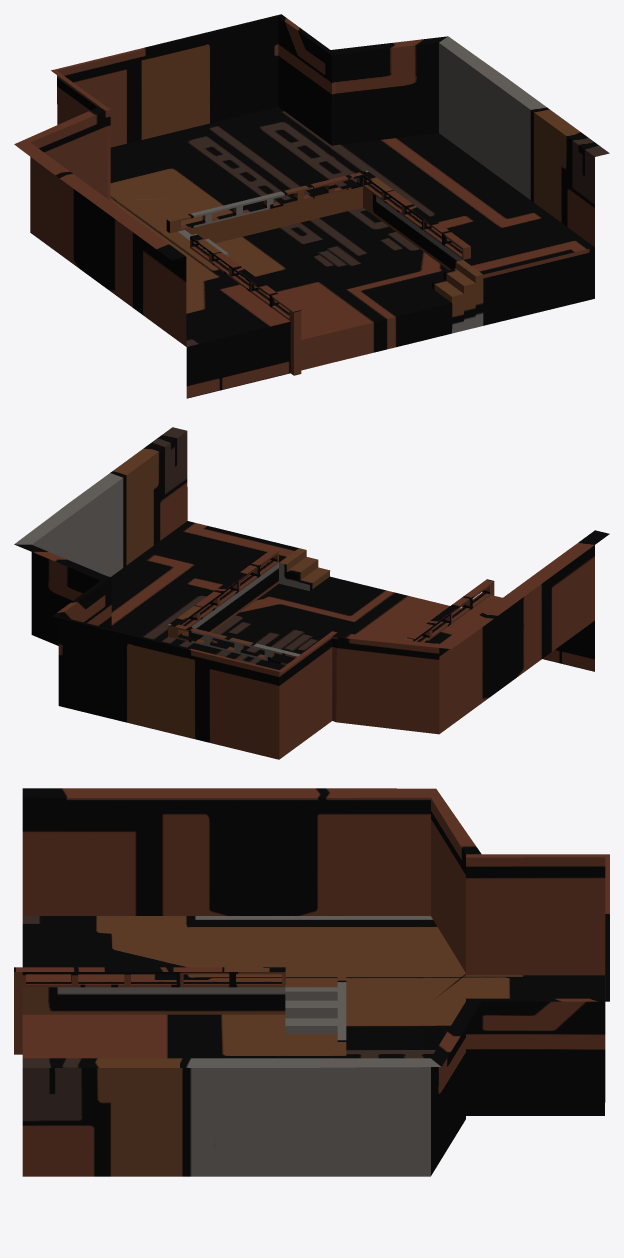
Rendered from Enviorment_Unwapped_UVs_2.fbx.
3 views of the same model, one above another, from view 1: azimuth 30°, elevation 25°; view 2: azimuth 150°, elevation 25°; view 3: azimuth 270°, elevation 25° (orthographic). The views are drawn at different scales.
Visible parts, largest first — view 1: Enivorment; view 2: Enivorment; view 3: Enivorment.
Boxes of the visible parts, bbox=[...] form: Enivorment: bbox=[14, 14, 609, 398]; Enivorment: bbox=[14, 427, 609, 759]; Enivorment: bbox=[14, 788, 609, 1176].
Size of the model in its own units: 105 by 32.46 by 94.36.
